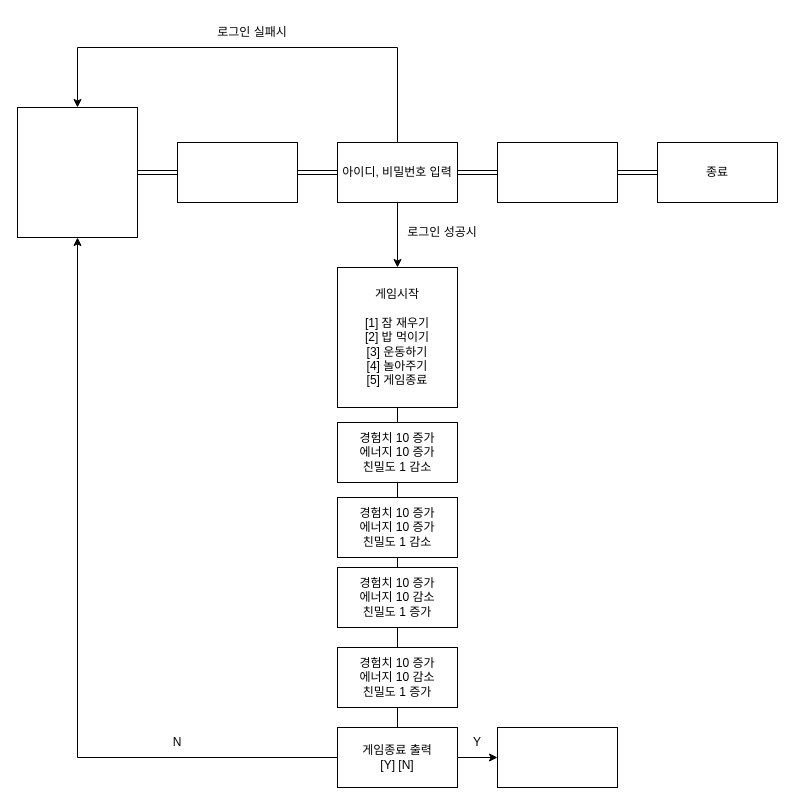
The diagram is 795 pixels wide and 805 high, and some of its shapes have lost their labels. Here are the shapes that lost their labels. From the top down, the centre of each, then its label:
(77,172): 메인페이지 [1] 회원가입 [2] 로그인 [3] 랭킹 [4] 종료
(237,172): 아이디, 비밀번호 입력 후 데이터베이스 테이블에 저장
(557,172): 랭킹 출력
(557,757): 데이터베이스 테이블에 저장 후 종료
